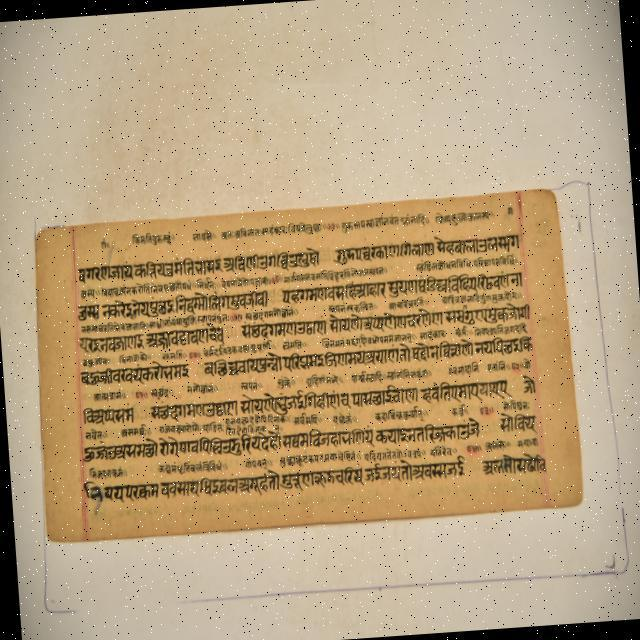text_paragraph: (35, 188, 581, 540)
